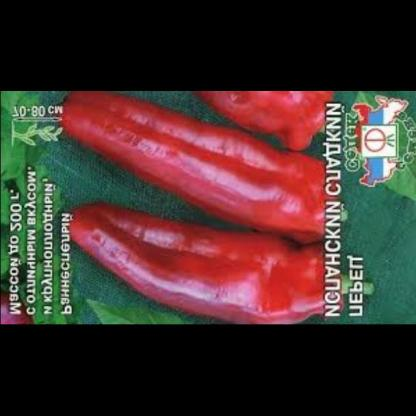bell pepper: (52, 92, 356, 251), (64, 193, 368, 326), (192, 92, 338, 156)
